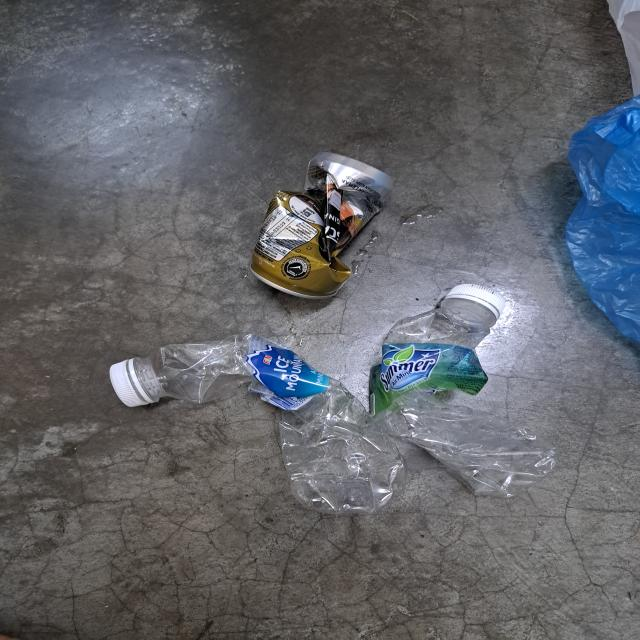can: (257, 147, 374, 305)
plastic bag: (561, 94, 640, 362)
plastic bottle: (139, 327, 399, 525), (373, 304, 550, 506)
plastic bottle cap: (443, 278, 508, 320), (108, 354, 157, 409)
